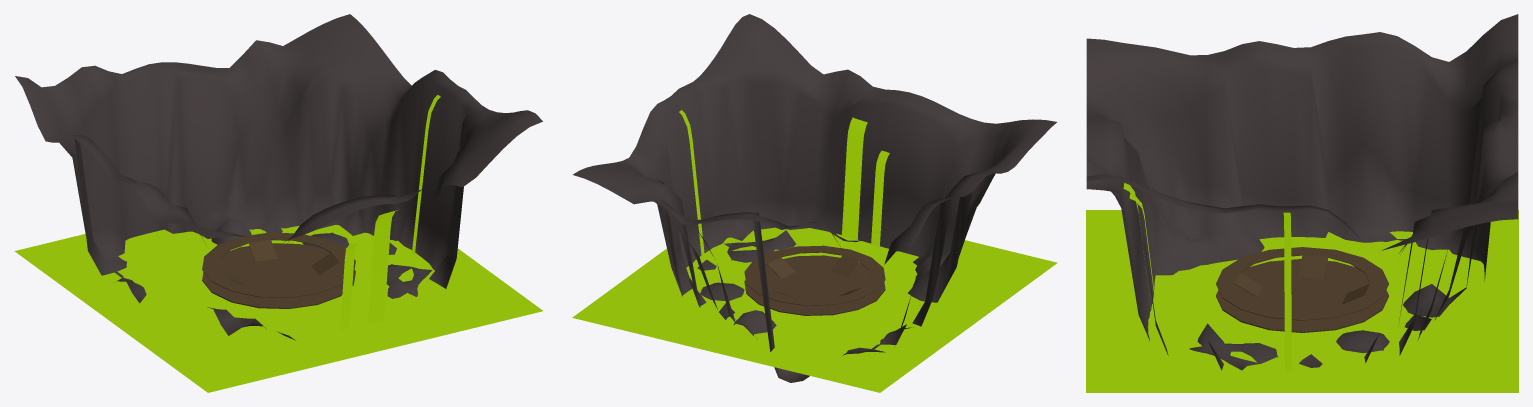
The model's file is test_landscape.glb.
The picture shows the model from 3 angles, left to right: view 1: azimuth 30°, elevation 25°; view 2: azimuth 150°, elevation 25°; view 3: azimuth 270°, elevation 25°; orthographic projection. The views are drawn at different scales.
Visible parts, largest first — view 1: Cliffs, Ocean, CentralPlatform, UpperPlatform, Waterfall.002, Waterfall, Waterfall.001; view 2: Cliffs, Ocean, CentralPlatform, UpperPlatform, Waterfall.002, Waterfall, Waterfall.001; view 3: Cliffs, Ocean, CentralPlatform, UpperPlatform, Waterfall.001.
Part boxes in pixels (box(x1,y1,x2,y2)): Cliffs: box(15, 14, 542, 340); Ocean: box(14, 225, 542, 392); CentralPlatform: box(202, 243, 355, 308); UpperPlatform: box(202, 232, 355, 297); Waterfall.002: box(367, 210, 397, 325); Waterfall: box(340, 242, 361, 330); Waterfall.001: box(412, 95, 440, 255); Cliffs: box(572, 14, 1056, 382); Ocean: box(572, 227, 1057, 392); CentralPlatform: box(744, 255, 885, 315); UpperPlatform: box(744, 245, 885, 305); Waterfall.002: box(842, 117, 867, 239); Waterfall: box(871, 150, 889, 246); Waterfall.001: box(679, 110, 704, 257); Cliffs: box(1086, 14, 1518, 370); Ocean: box(1086, 210, 1518, 392); CentralPlatform: box(1216, 259, 1388, 332); UpperPlatform: box(1216, 247, 1388, 320); Waterfall.001: box(1283, 212, 1291, 371).
Bounding box in the file's own units: 35 × 23.49 × 35.
